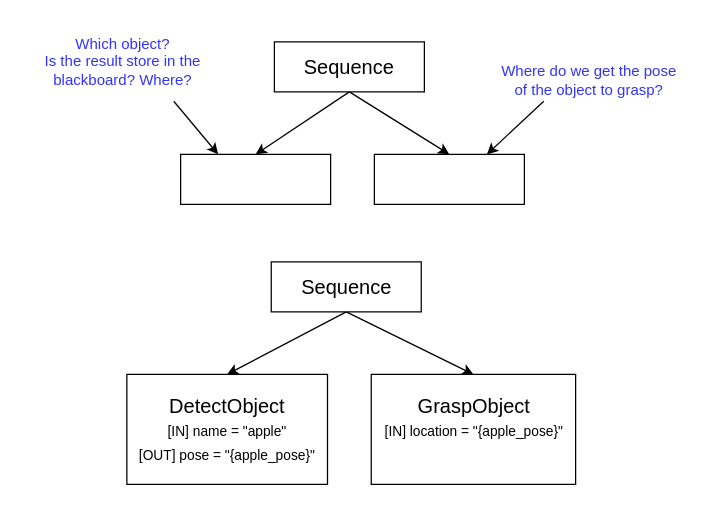
This 701x506 diagram has some shape labels left out. The shapes that lost their labels are listed below. From the top down, each one's centre as x and y in pixels, then its label:
At point 255,178: "DetectObject".
At point 448,178: "GraspObject".
